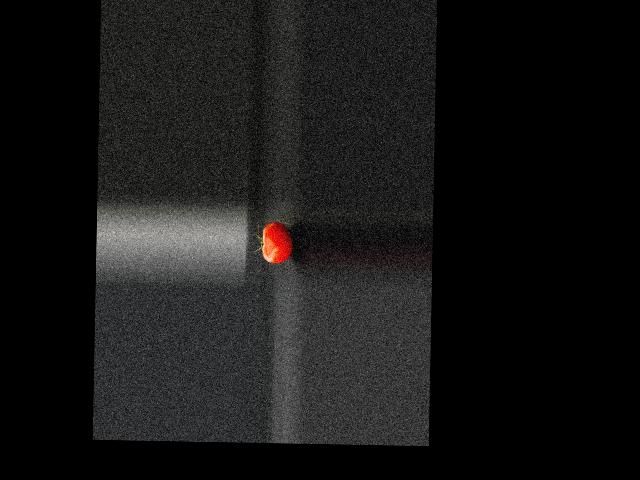tomato: (262, 222, 293, 264)
